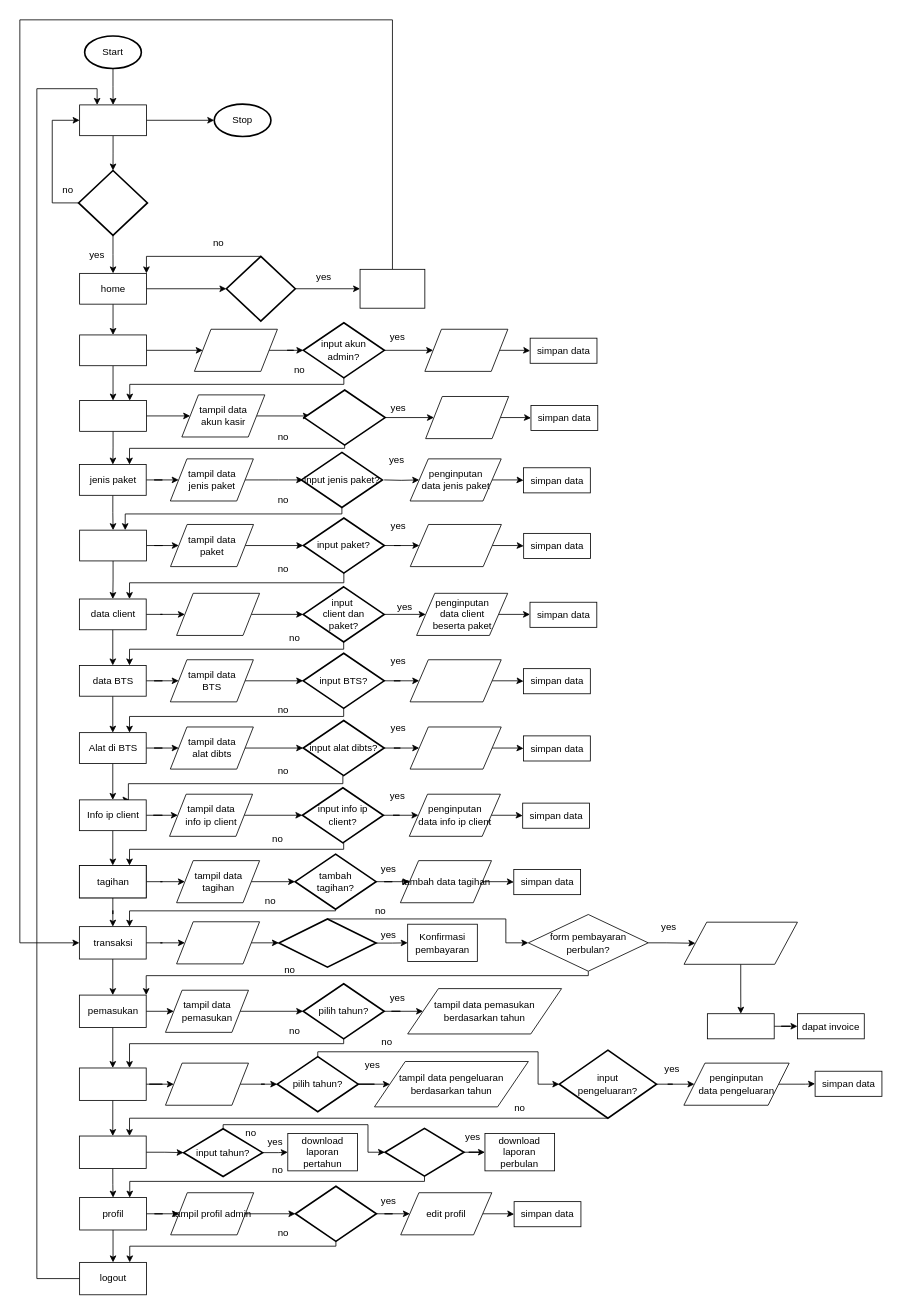
Image size: 897x1309. Some labels were removed from this diagram. The shapes that lost their labels are listed below. From the top down, each one's centre as x and y in pixels, then its label:
At (x=112, y=120): "Login".
At (x=112, y=202): "Cek login?".
At (x=260, y=288): "Cek notifikasi?".
At (x=392, y=288): "notifikasi pembayaran user".
At (x=112, y=350): "data akun admin".
At (x=235, y=349): "tampil data akun admin".
At (x=466, y=349): "penginputan data admin".
At (x=112, y=415): "data akun kasir".
At (x=344, y=417): "input akun kasir?".
At (x=467, y=417): "penginputan data kasir".
At (x=112, y=545): "paket".
At (x=455, y=545): "penginputan data paket".
At (x=218, y=614): "tampil data client".
At (x=455, y=680): "penginputan data BTS".
At (x=455, y=747): "penginputan data alat dibts".
At (x=218, y=942): "tampil data transaksi".
At (x=327, y=943): "konfirmasi pembayaran?".
At (x=740, y=942): "input pembayaran perbulan".
At (x=740, y=1026): "bayar".
At (x=112, y=1083): "pengeluaran".
At (x=207, y=1083): "tampil data pengeluaran".
At (x=112, y=1151): "laporan".
At (x=424, y=1152): "input bulan?".
At (x=335, y=1213): "Edit Profil?".
